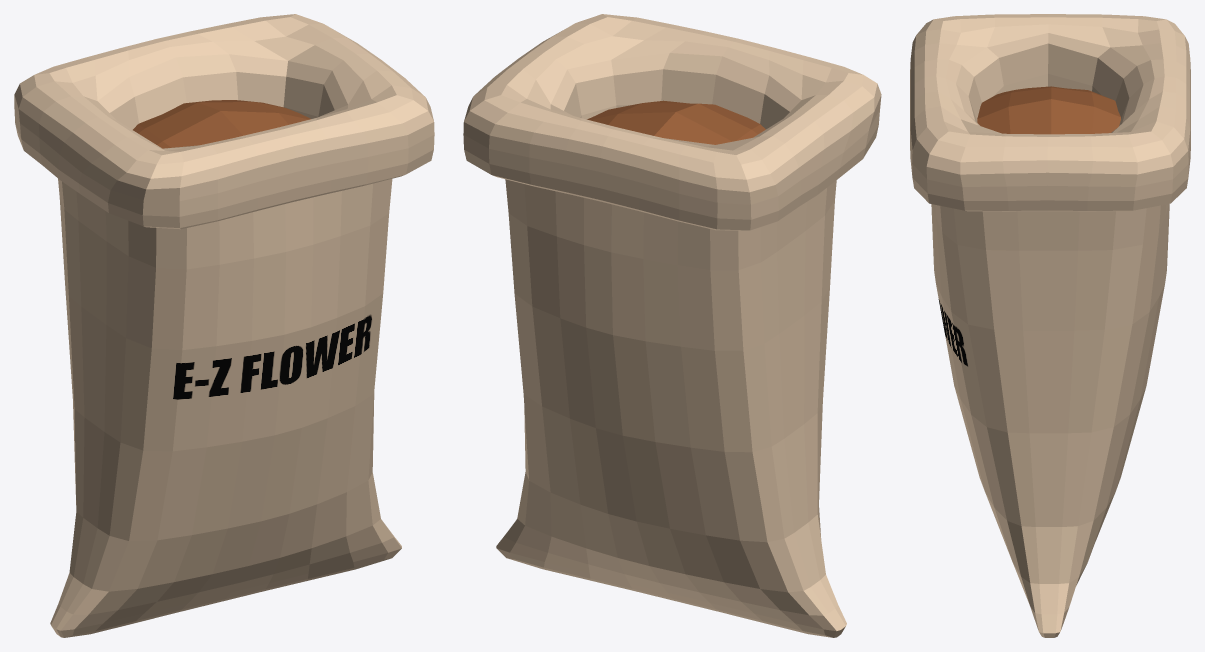
File: Fertilizer.fbx
3 renders of one model, left to right at view 1: azimuth 30°, elevation 25°; view 2: azimuth 150°, elevation 25°; view 3: azimuth 270°, elevation 25°, orthographic. The views are drawn at different scales.
Parts seen in each view (by area): view 1: Cube, Plane; view 2: Cube, Plane; view 3: Cube, Plane.
Boxes of the visible parts, <box> form: Cube: <box>14,14,434,637</box>; Plane: <box>133,100,310,148</box>; Cube: <box>463,14,881,637</box>; Plane: <box>587,100,765,144</box>; Cube: <box>910,14,1190,637</box>; Plane: <box>977,86,1120,134</box>.
Bounding box in the file's own units: 272 × 388 × 202.
